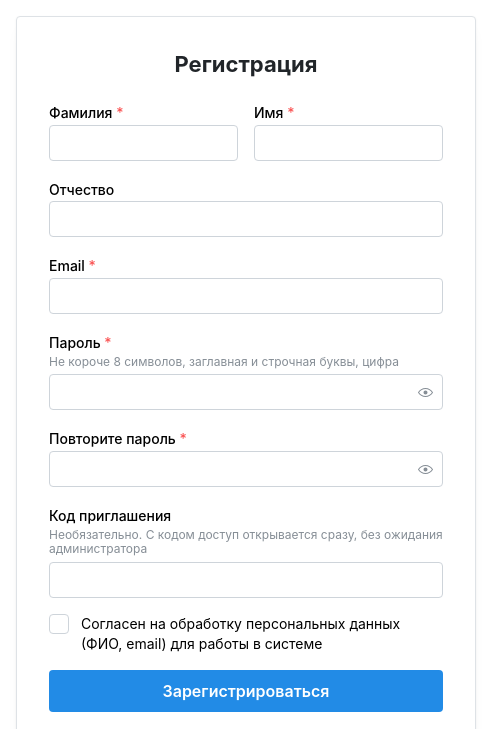
Scenario: RegisterPage › 202 → «Заявка отправлена», сессии нет
Type "Петров" into the field labelled "Фамилия *" at x=144, y=143, box [49,125,238,161]
Type "Иван" into the field labelled "Имя *" at x=348, y=143, box [254,125,443,161]
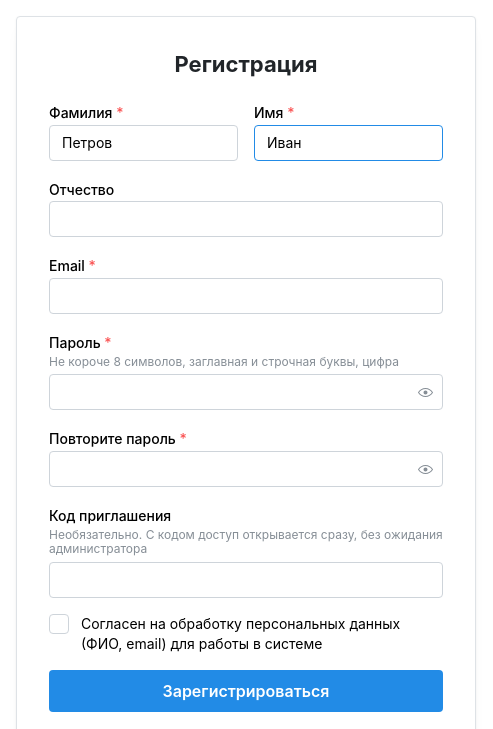
Type "ivan@scoodle.local" into the field labelled "Email *" at x=246, y=296, box [49,278,443,314]
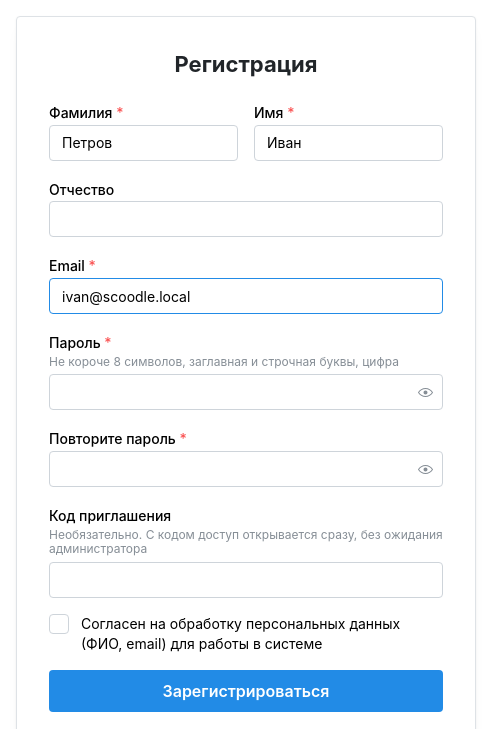
Type "Password1" into the password field labelled "Пароль *" at x=246, y=392, box [50,375,442,409]
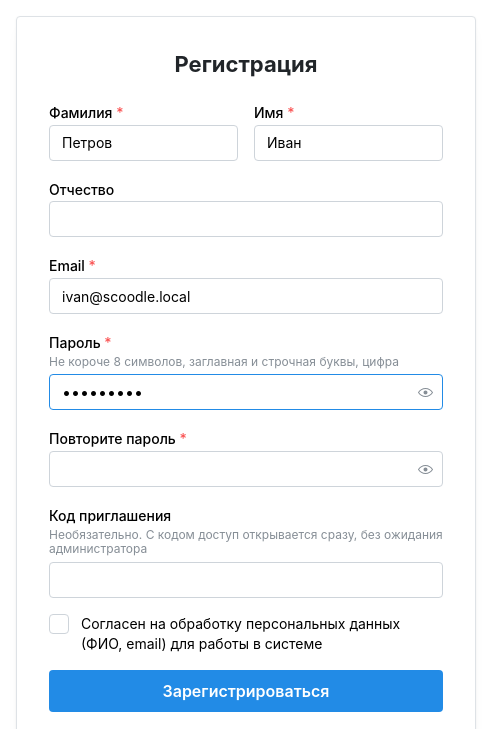
Type "Password1" into the password field labelled "Повторите пароль *" at x=246, y=469, box [50,452,442,486]
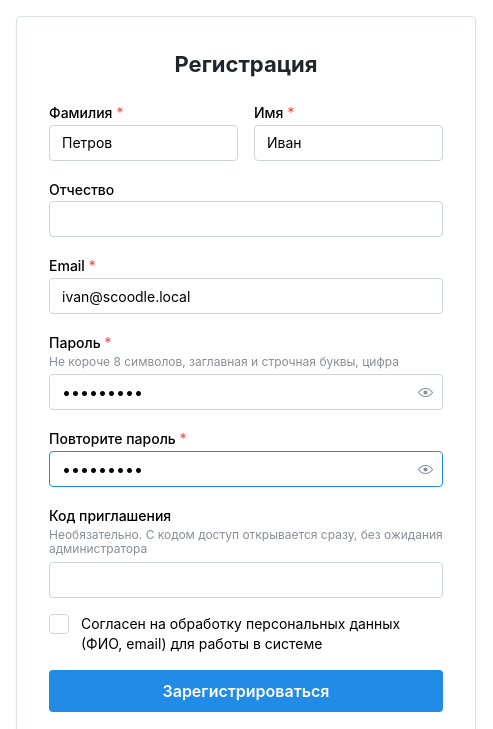
Click the checkbox at x=59, y=624, box [49,614,69,634]
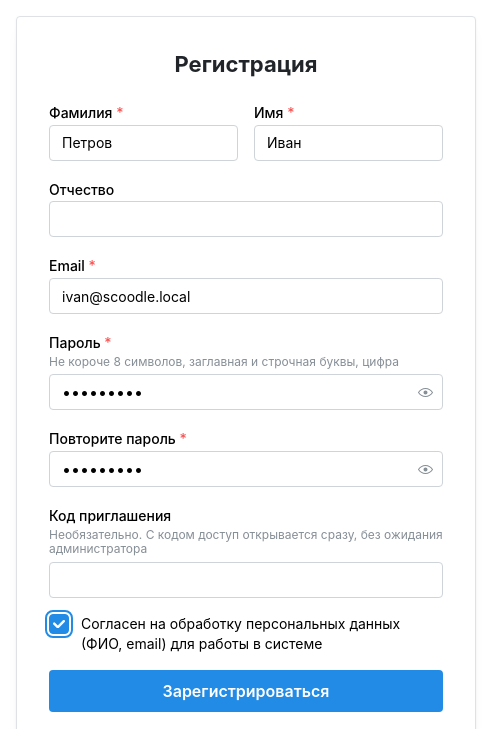
Click the button "Зарегистрироваться" at x=246, y=691, box [49,670,443,712]
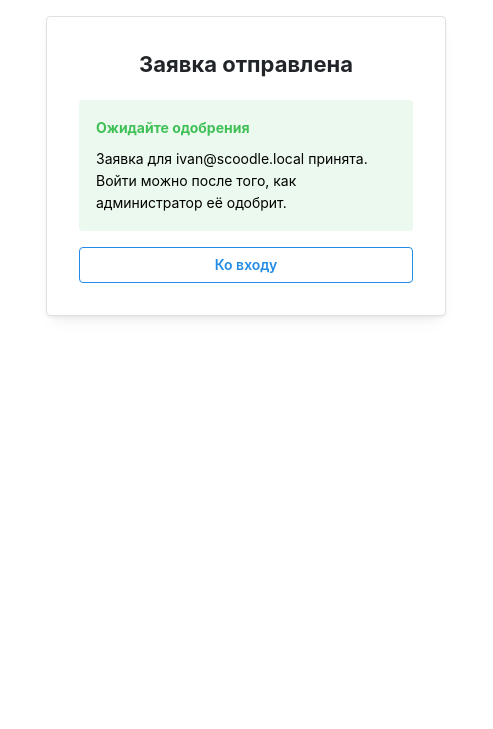
Now the heading "Заявка отправлена" is shown, box [139,51,353,77]
